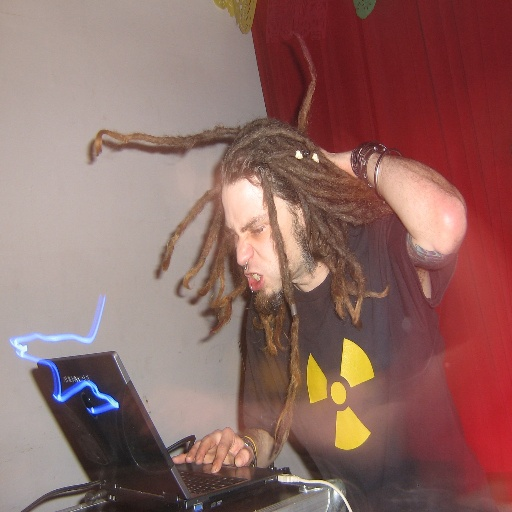hand: (185, 432, 253, 481), (317, 145, 356, 180)
